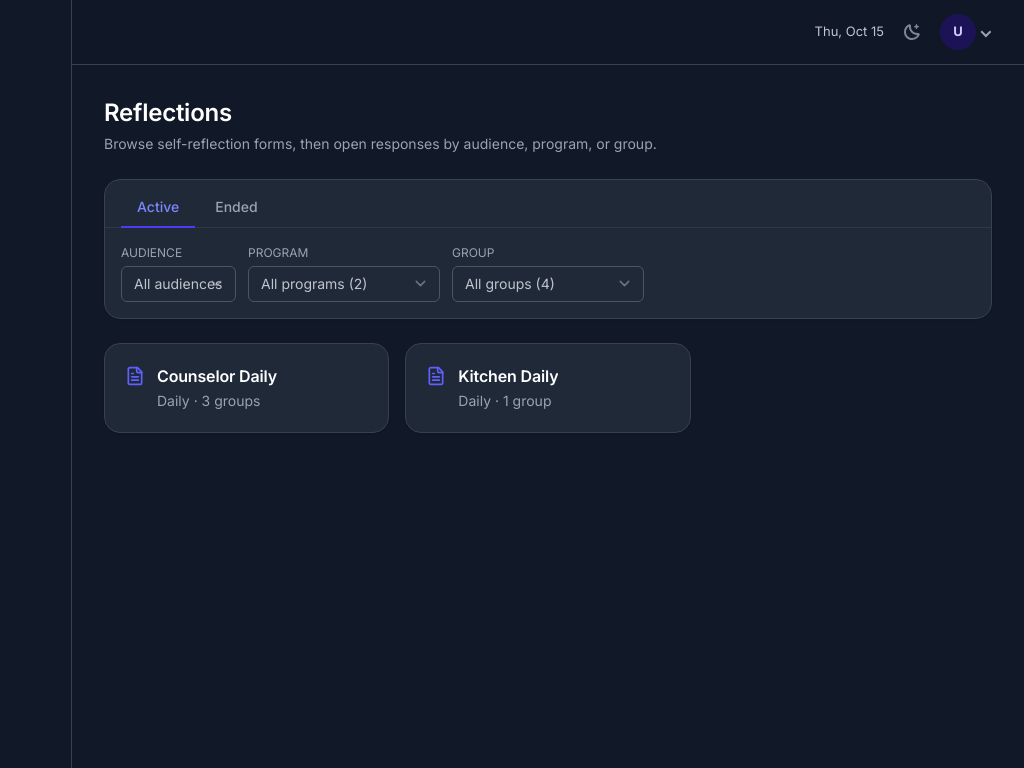
it: ReflectionsDashboardPage › narrows tiles when audience filter changes
Expected: the link with test id "reflections-form-tile-10" is shown, [104, 343, 389, 433]
Select "Bunk" in the dropdown named "Filter by audience" at (178, 284), box [121, 266, 236, 302]
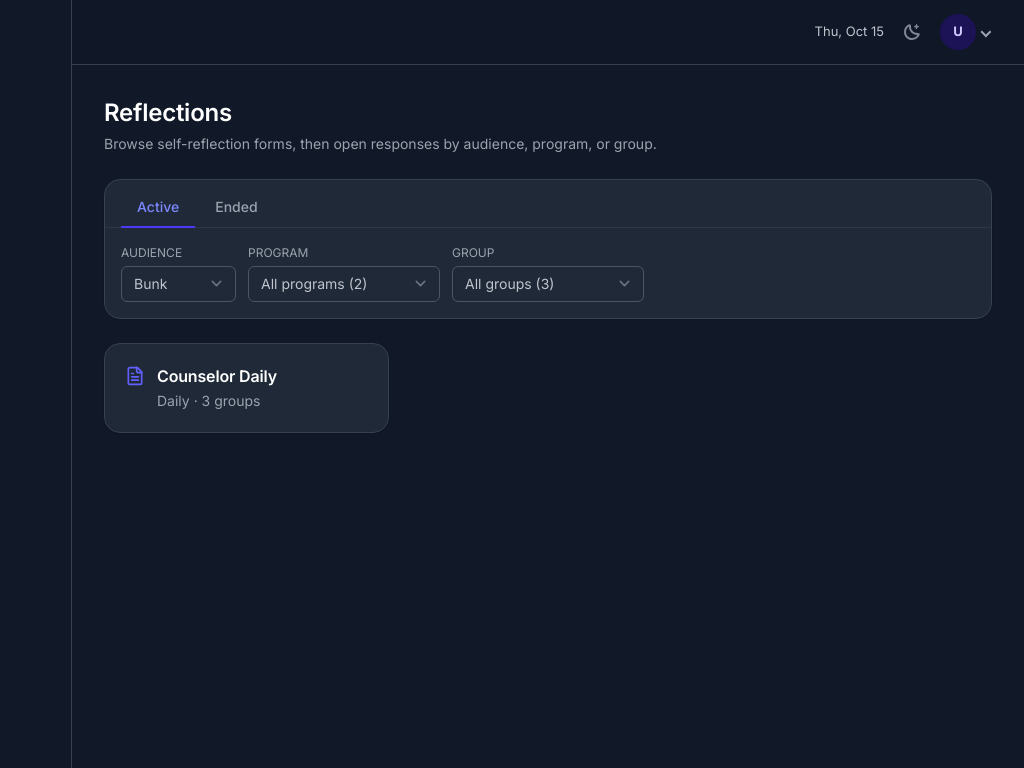
Expected: the link with test id "reflections-form-tile-10" is shown, [104, 343, 389, 433]
Expected: the link with test id "reflections-form-tile-20" is gone
